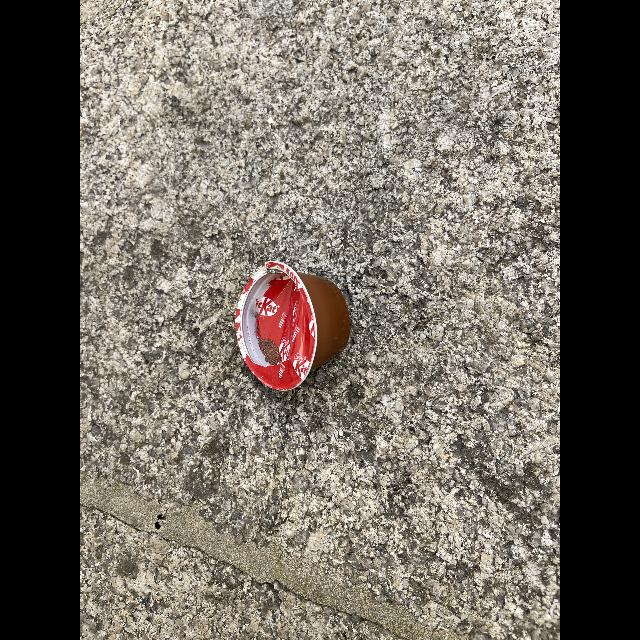damaged_capsule: (216, 255, 380, 402)
